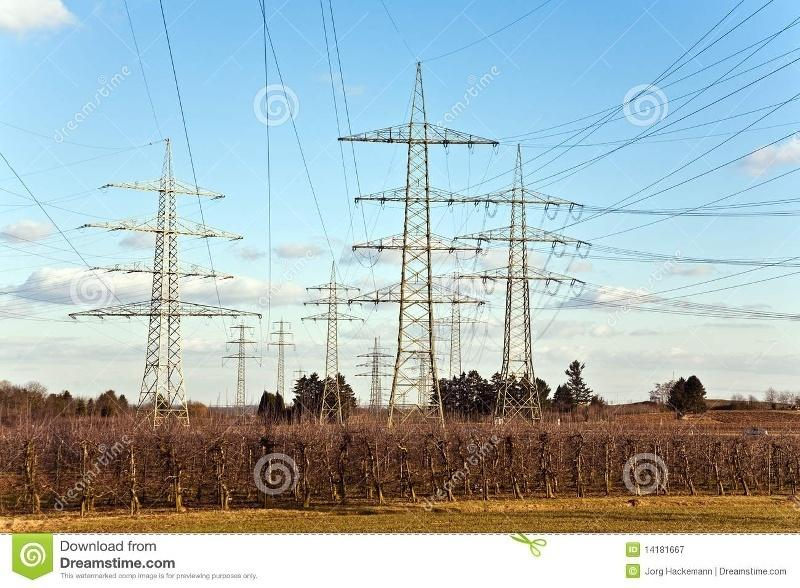power_tower: (351, 58, 467, 433), (95, 136, 226, 422), (457, 139, 577, 426), (301, 259, 361, 427), (219, 314, 258, 414), (266, 313, 295, 410), (358, 331, 393, 404)
